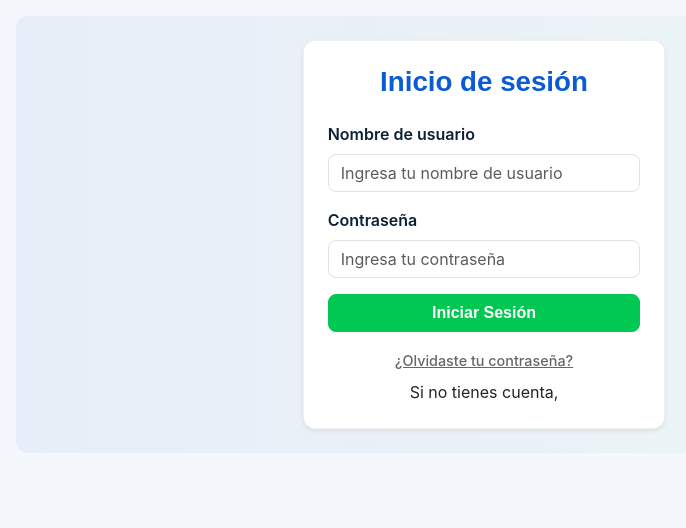
Test: LogIn.vue › muestra error si login falla por credenciales
Type "user" into the field with id "inputId" at (484, 173), box [328, 154, 640, 192]
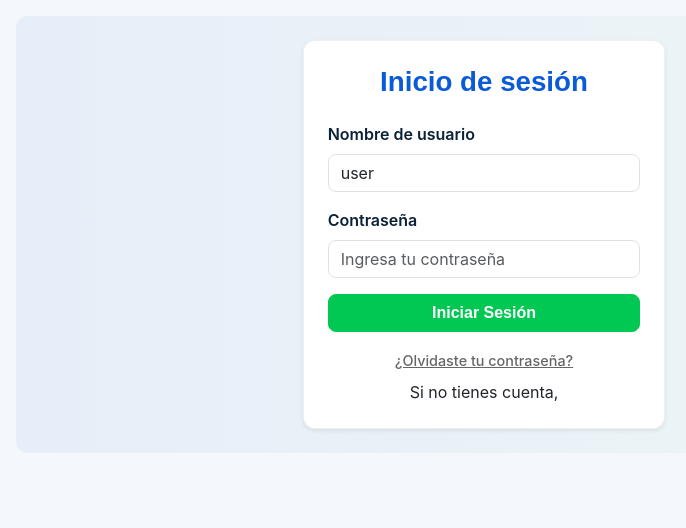
Type "pass" into the password field with id "inputPassword" at (484, 259), box [328, 240, 640, 278]
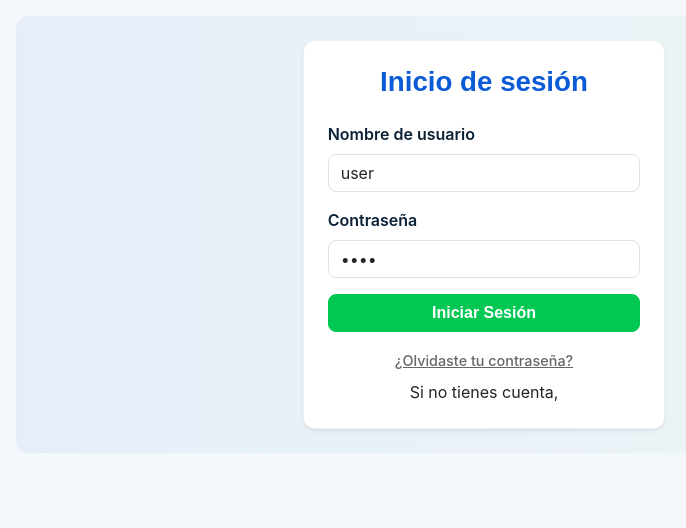
Submit the form, box [328, 122, 640, 404]
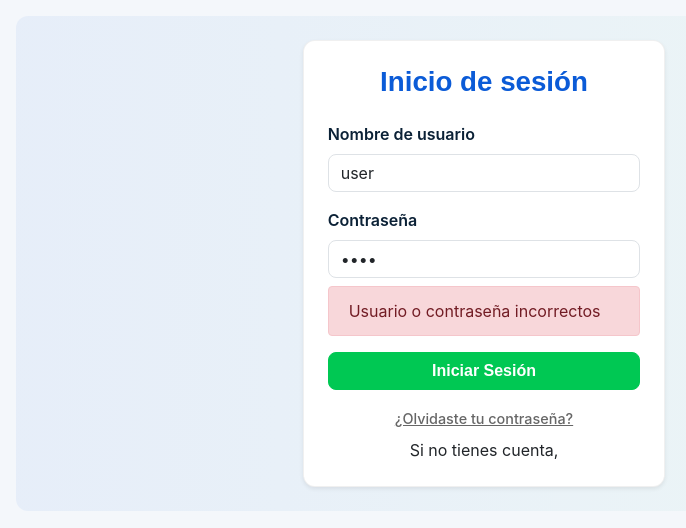
Now the text "Usuario o contraseña incorrectos" is shown, box [328, 286, 640, 336]
